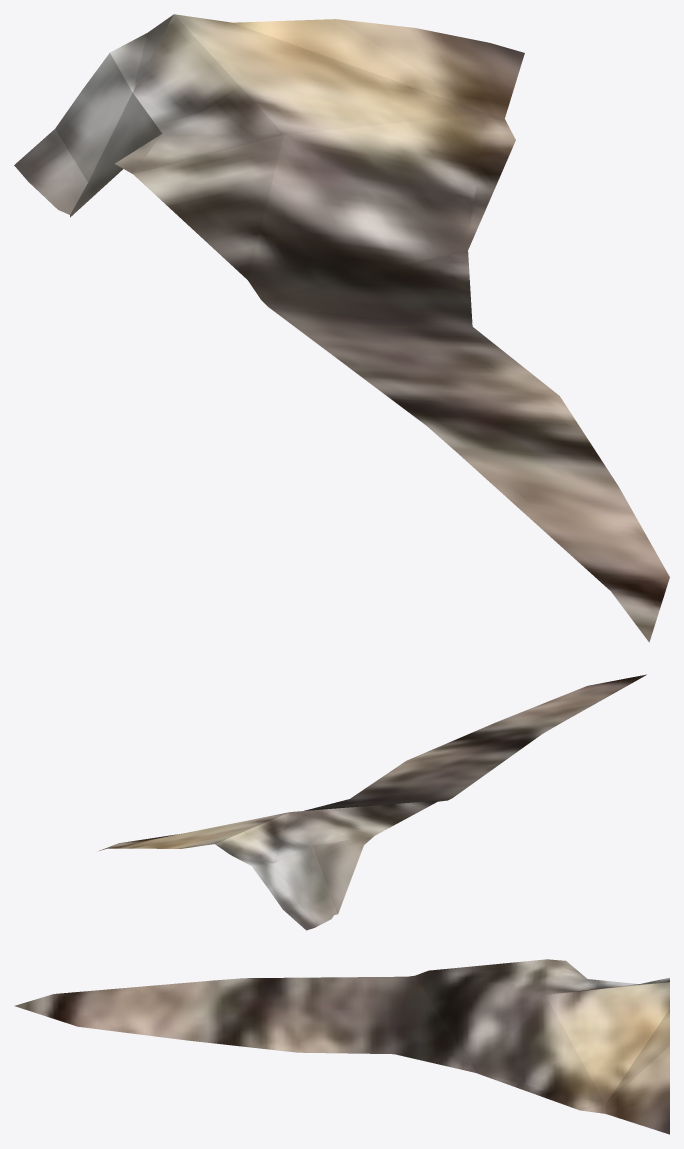
3 views of the same model, one above another, from view 1: azimuth 30°, elevation 25°; view 2: azimuth 150°, elevation 25°; view 3: azimuth 270°, elevation 25° (orthographic). The views are drawn at different scales.
Size of the model in its own units: 0.37 by 0.0861 by 0.7969.
1 material, 1 textured.
